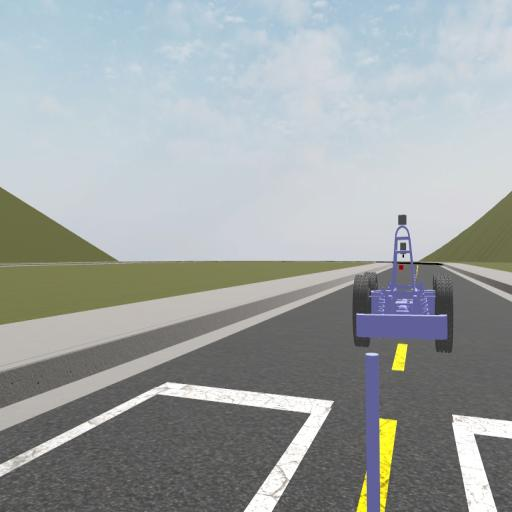ERP-42: (352, 214, 452, 352)
